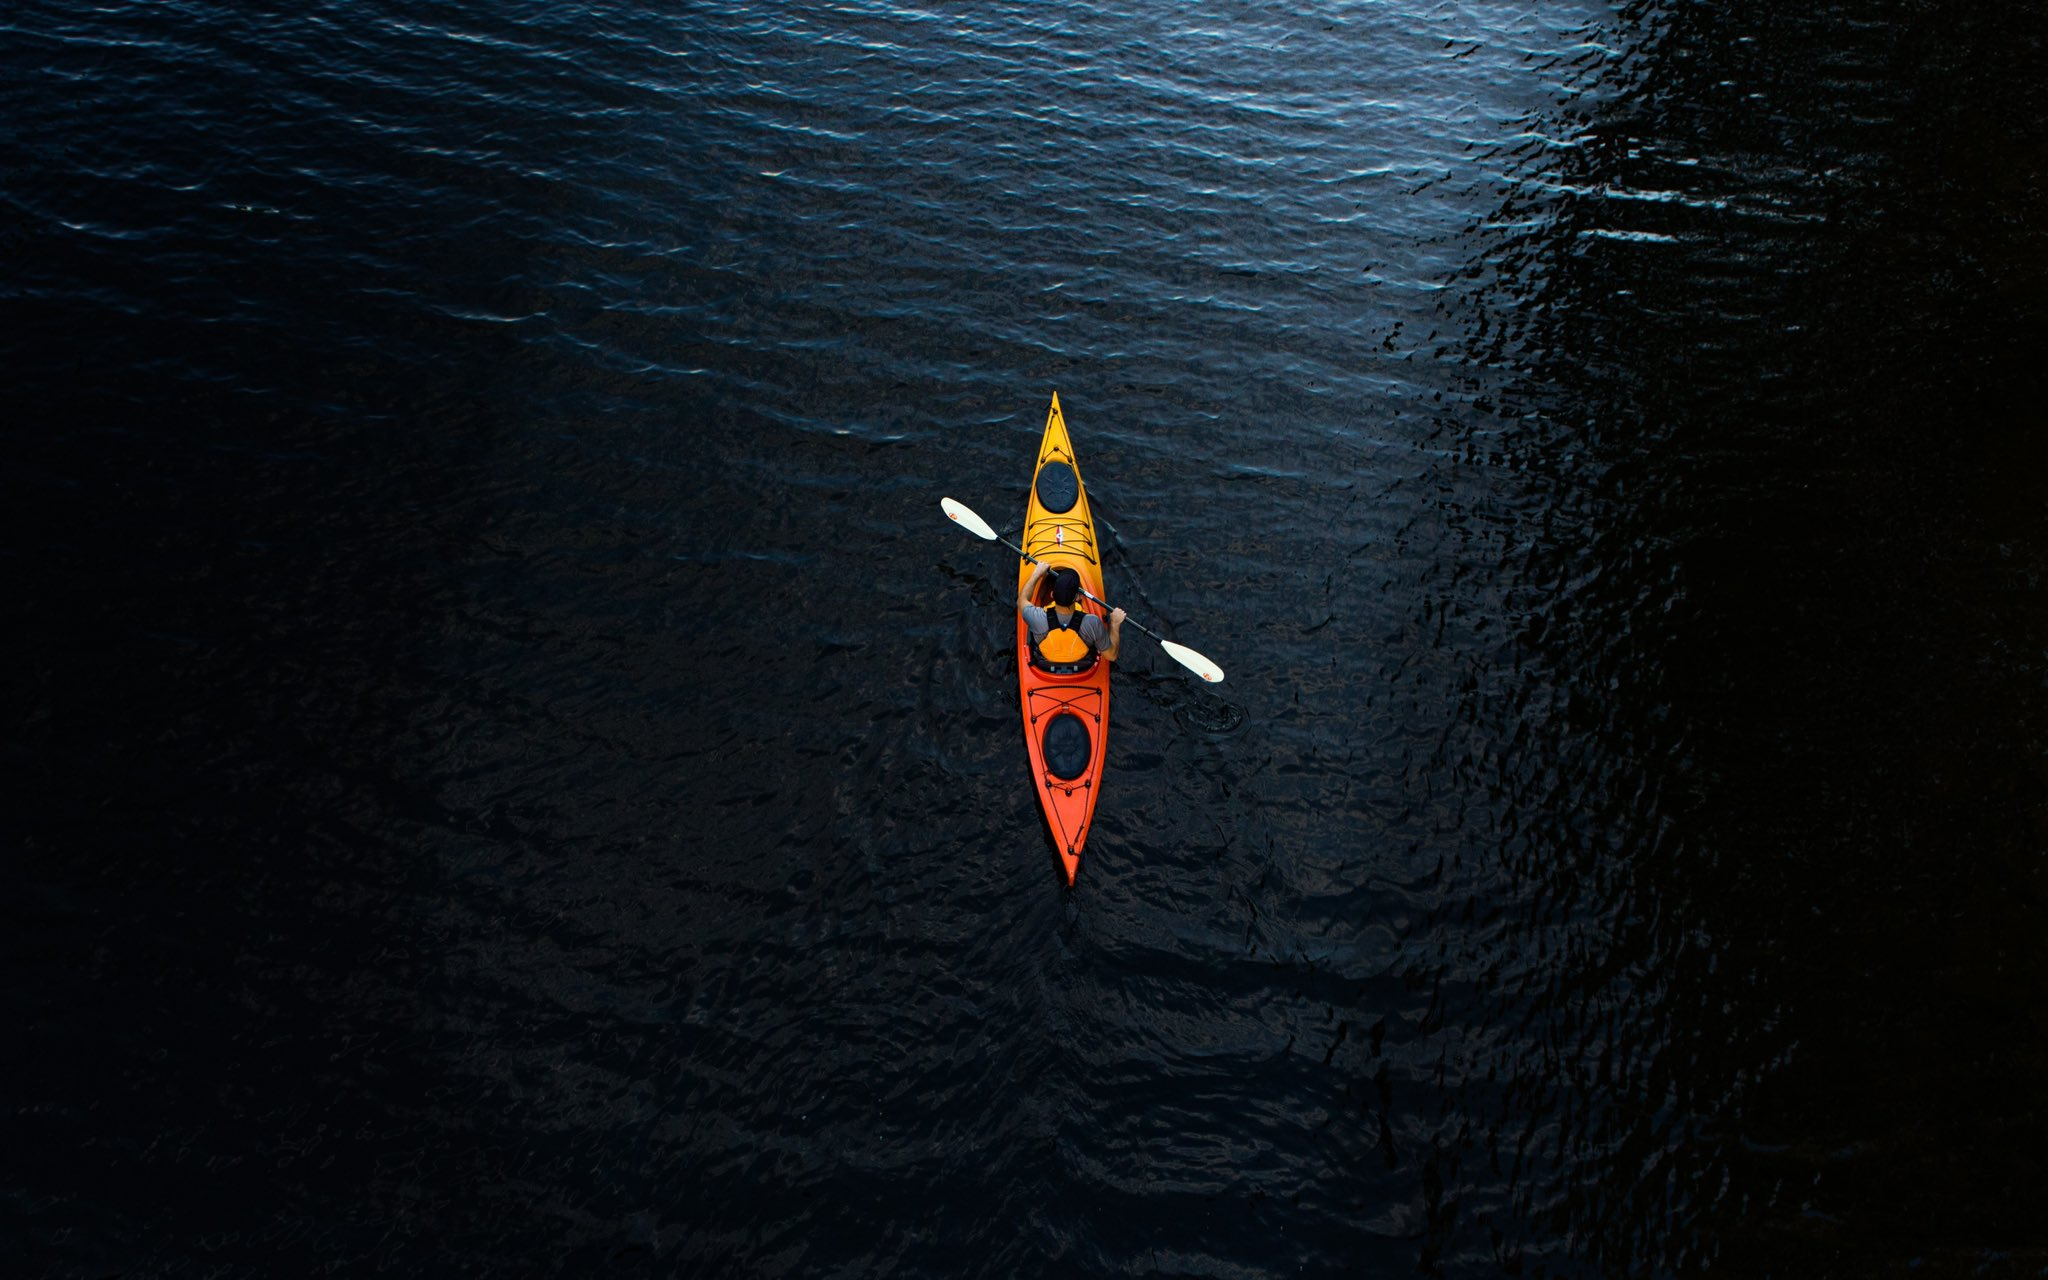kayaker: (936, 389, 1233, 900)
